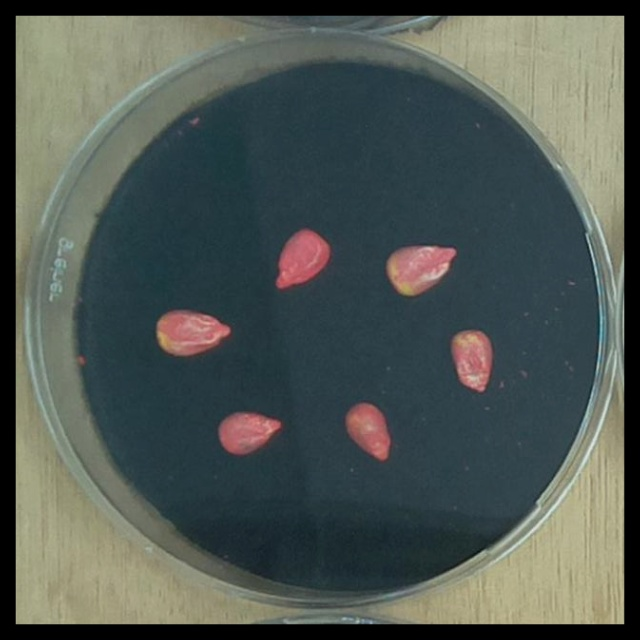Zea mays: (148, 301, 238, 362), (379, 238, 462, 303), (269, 222, 338, 297), (211, 403, 287, 461), (443, 321, 499, 398), (338, 394, 397, 467)
